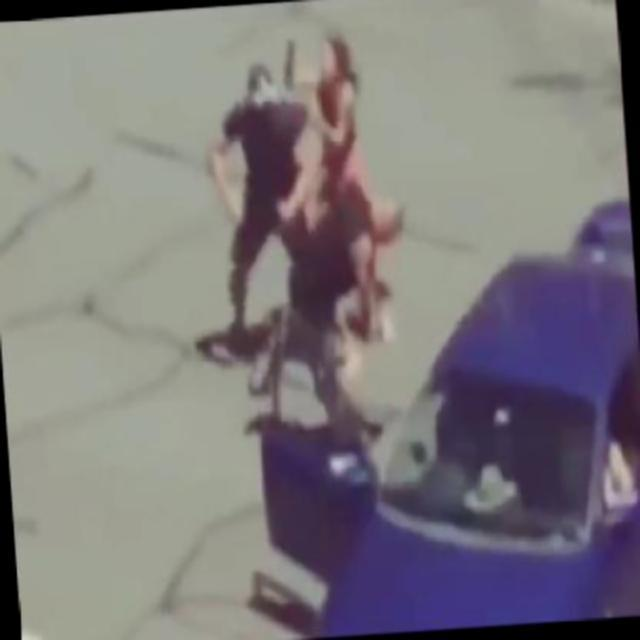fight: (200, 31, 386, 337)
